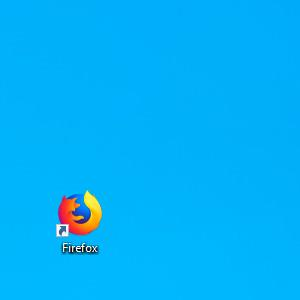firefox: (55, 189, 103, 238)
